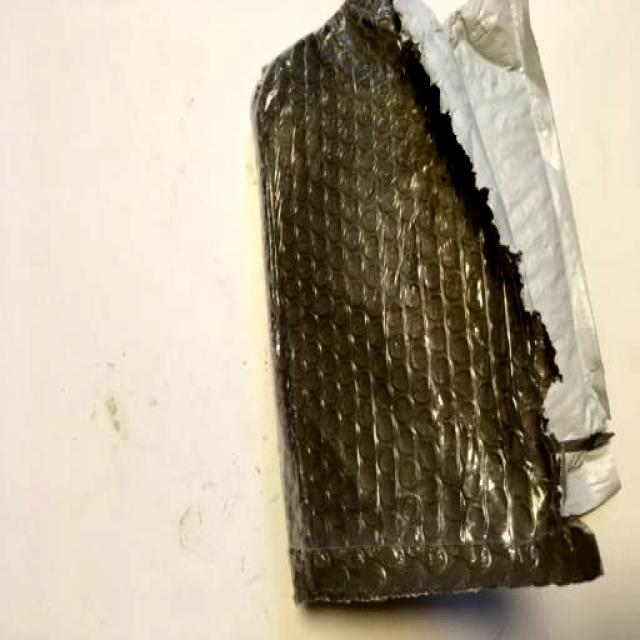Trash: (253, 0, 618, 616)
